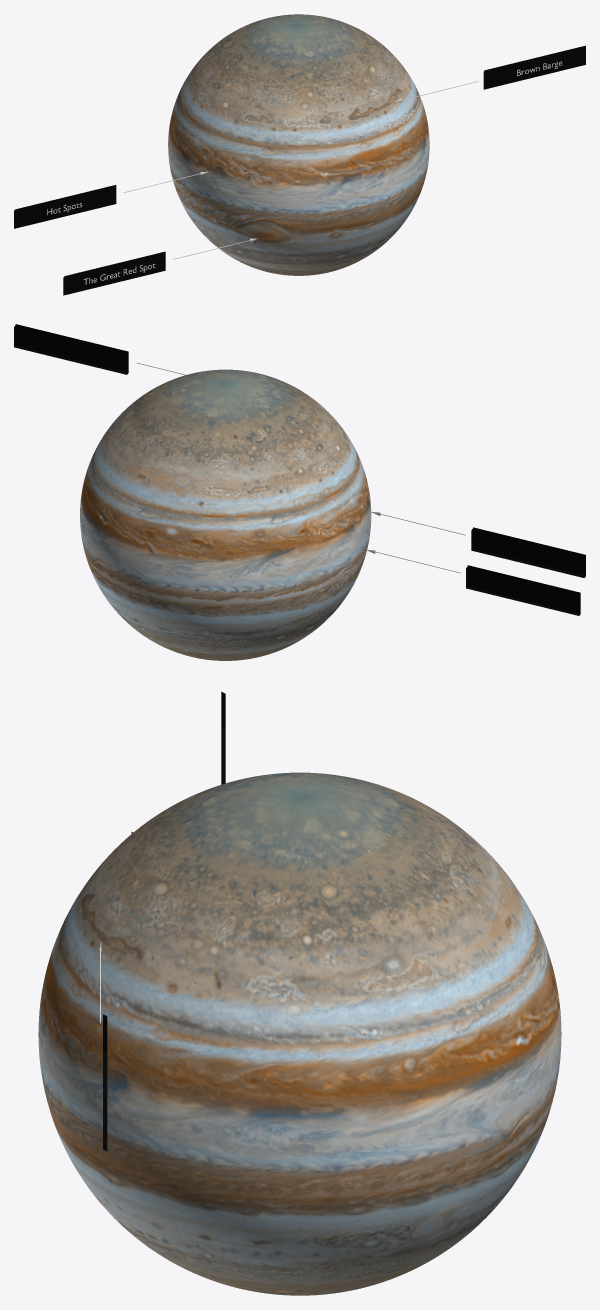
File: jupiter.glb
The picture shows the model from 3 angles, top to bottom: view 1: azimuth 30°, elevation 25°; view 2: azimuth 150°, elevation 25°; view 3: azimuth 270°, elevation 25°; orthographic projection. The views are drawn at different scales.
Visible parts, largest first — view 1: Object_2, Plane.001, Plane.003, Plane.002; view 2: Object_2, Plane.003, Plane.002, Plane.001; view 3: Object_2.
Boxes of the visible parts, x1,y1,x2,y2 form: Object_2: [168, 14, 429, 275]; Plane.001: [14, 185, 116, 228]; Plane.003: [63, 251, 165, 295]; Plane.002: [483, 45, 585, 89]; Object_2: [80, 369, 371, 660]; Plane.003: [466, 565, 580, 615]; Plane.002: [14, 324, 128, 374]; Plane.001: [471, 527, 585, 577]; Object_2: [38, 772, 561, 1295].
Bounding box in the file's own units: 4.79 × 2 × 2.
4 materials, 1 textured.
